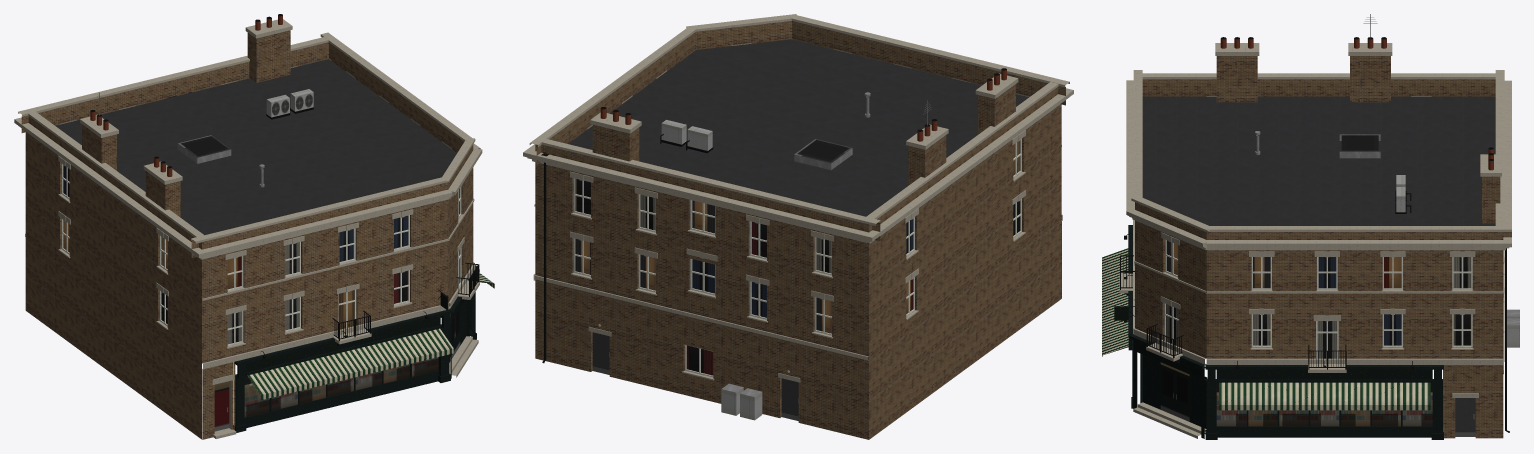
File: SM_CornerShop.glb
3 views of the same model, side by side, from view 1: azimuth 30°, elevation 25°; view 2: azimuth 150°, elevation 25°; view 3: azimuth 270°, elevation 25° (orthographic). The views are drawn at different scales.
Parts seen in each view (by area): view 1: SM_CornerShop; view 2: SM_CornerShop; view 3: SM_CornerShop.
Boxes of the visible parts, x1=… form: SM_CornerShop: x1=14, y1=14, x2=494, y2=439; SM_CornerShop: x1=523, y1=14, x2=1073, y2=439; SM_CornerShop: x1=1102, y1=14, x2=1519, y2=439.
Bounding box in the file's own units: 20.02 × 14.75 × 20.4.
Materials: 2 (2 with a texture image).
